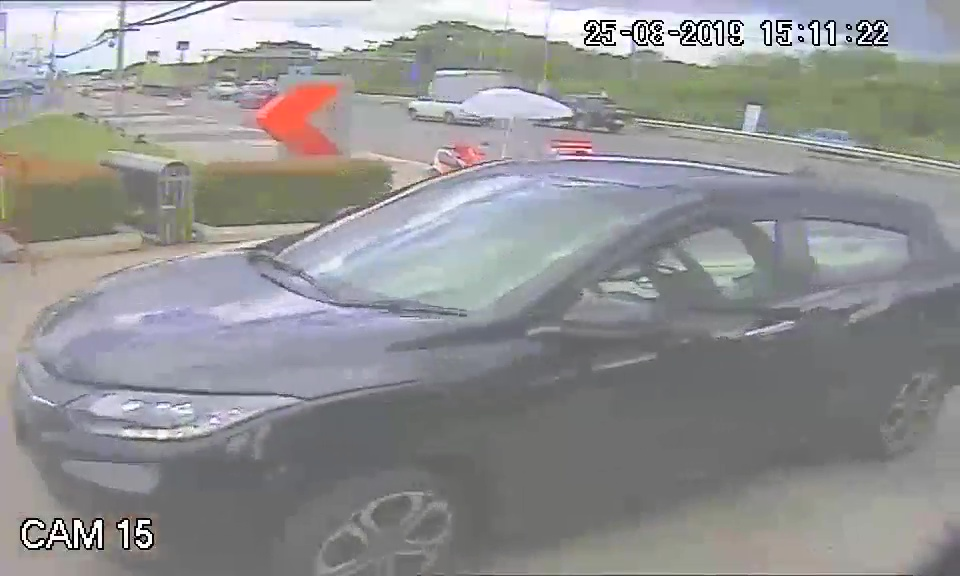sedan: (19, 151, 719, 563)
